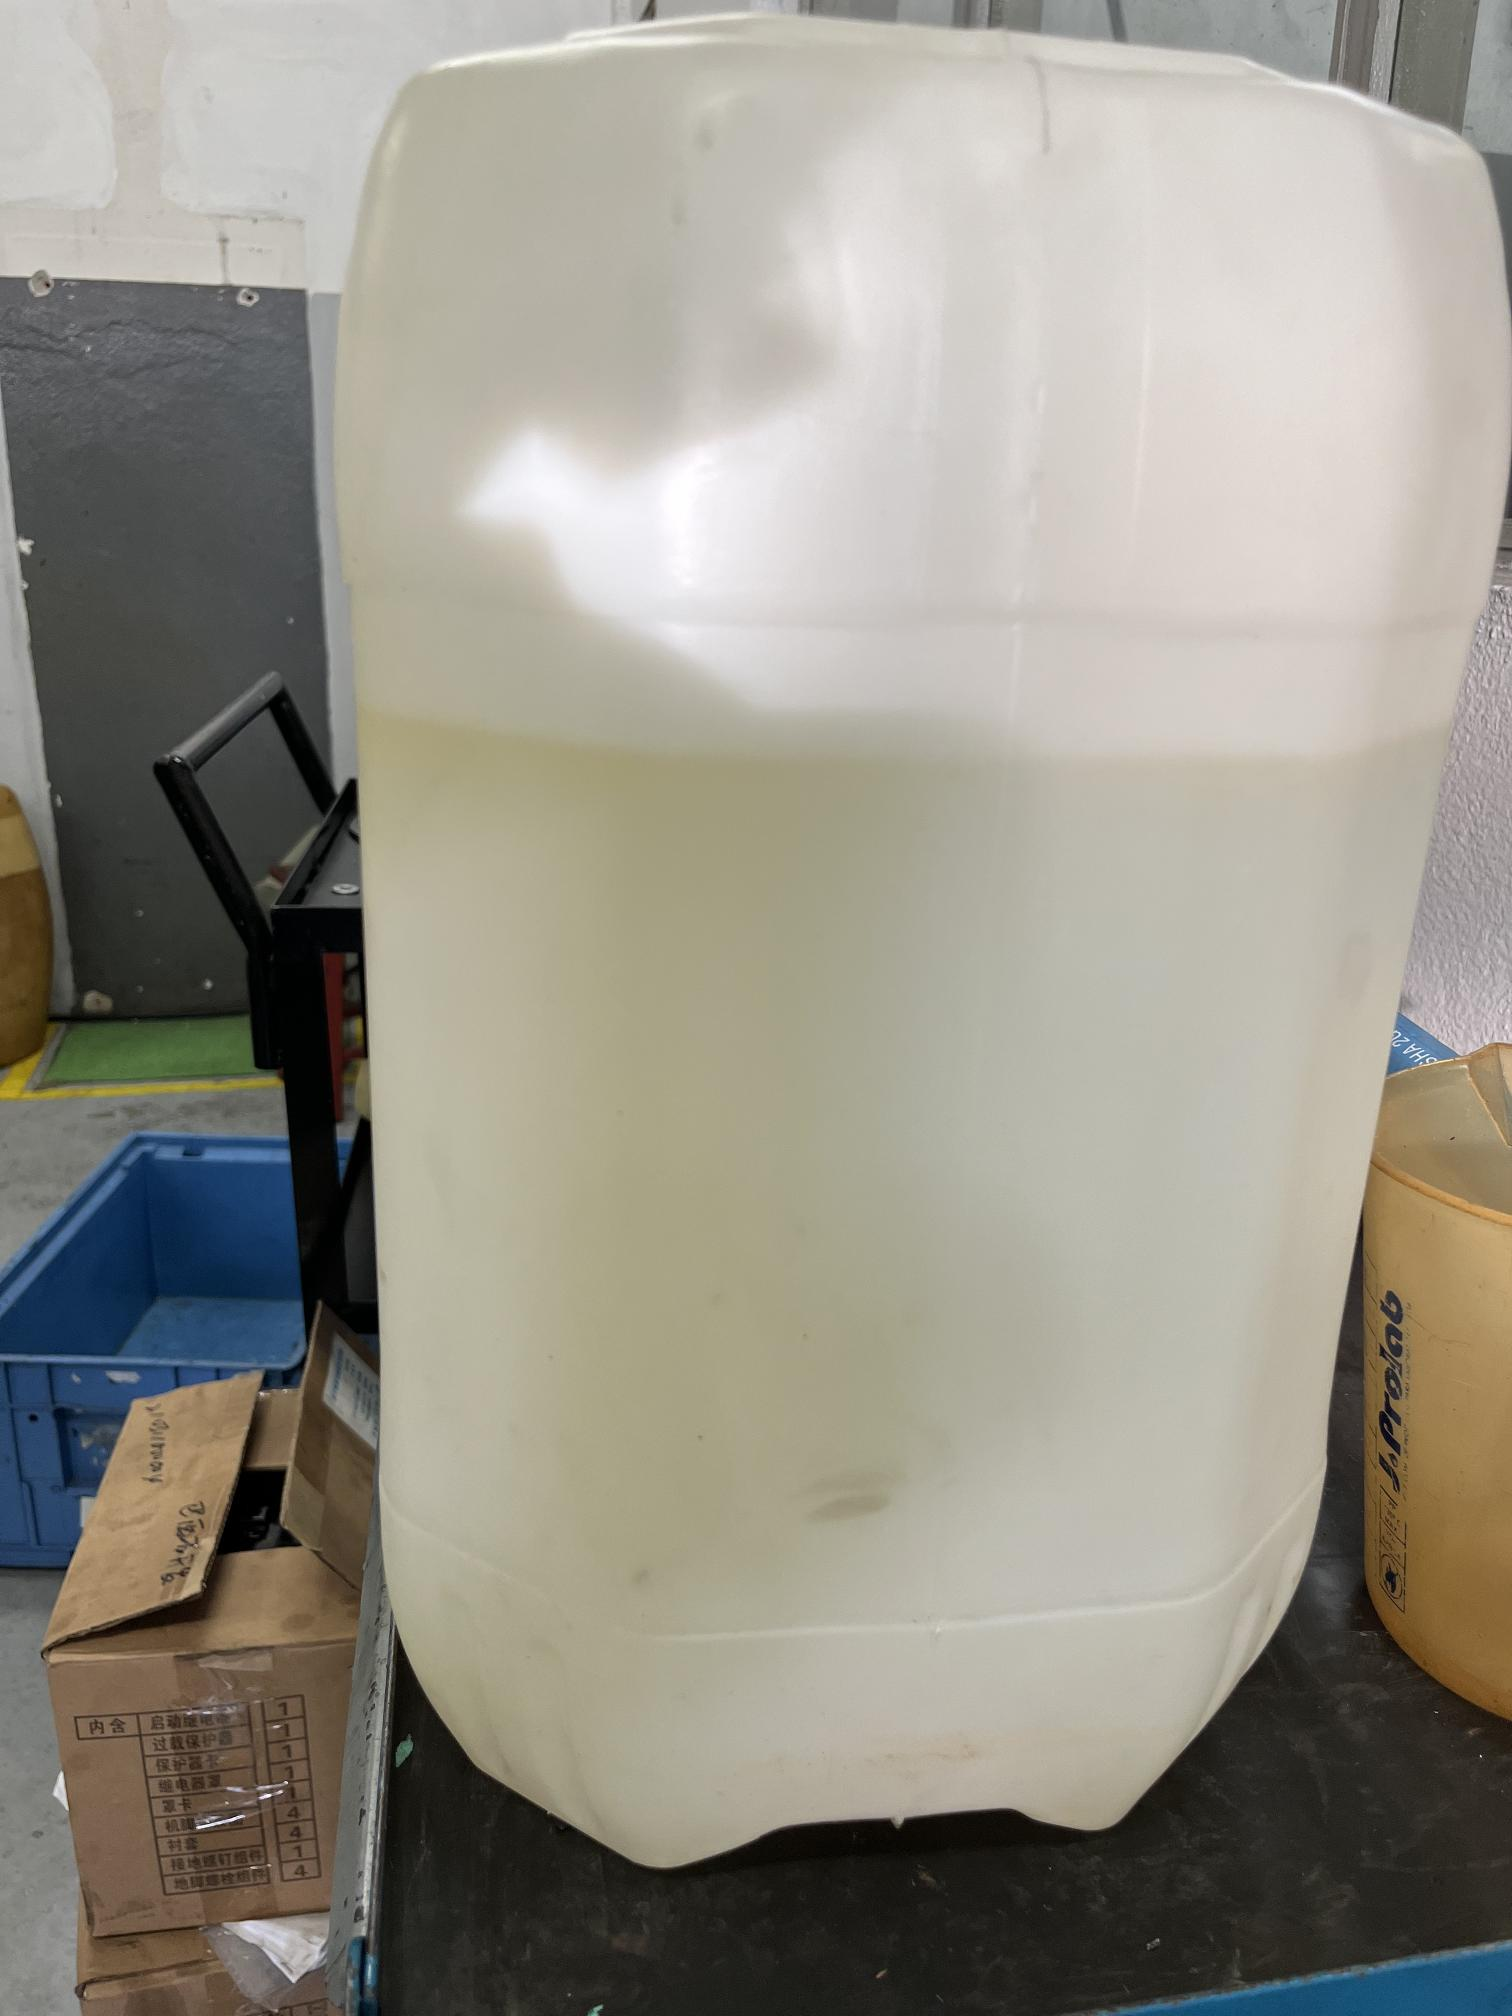Galao: (314, 30, 1375, 1921)
